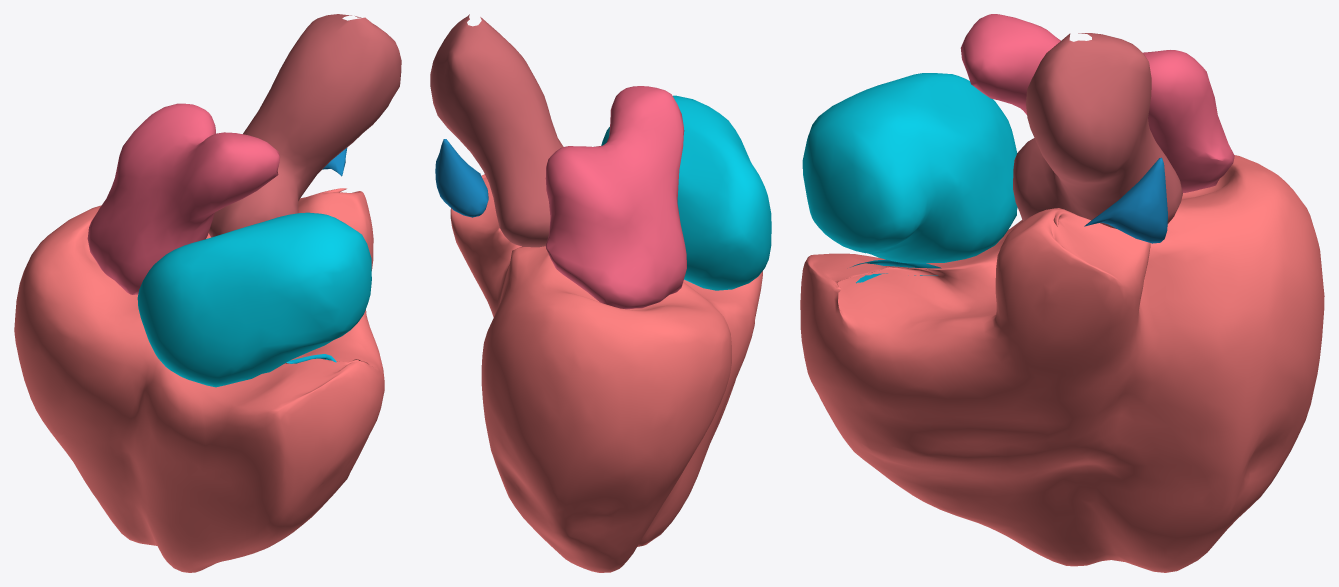
Rendered from frame_12.glb.
The picture shows the model from 3 angles, left to right: view 1: azimuth 30°, elevation 25°; view 2: azimuth 150°, elevation 25°; view 3: azimuth 270°, elevation 25°; orthographic projection. The views are drawn at different scales.
Visible parts, largest first — view 1: Renderer Node; view 2: Renderer Node; view 3: Renderer Node.
Boxes of the visible parts, x1,y1,x2,y2 form: Renderer Node: [14, 14, 401, 572]; Renderer Node: [430, 14, 771, 572]; Renderer Node: [800, 14, 1324, 572].
Size of the model in its own units: 105 by 157 by 118.
